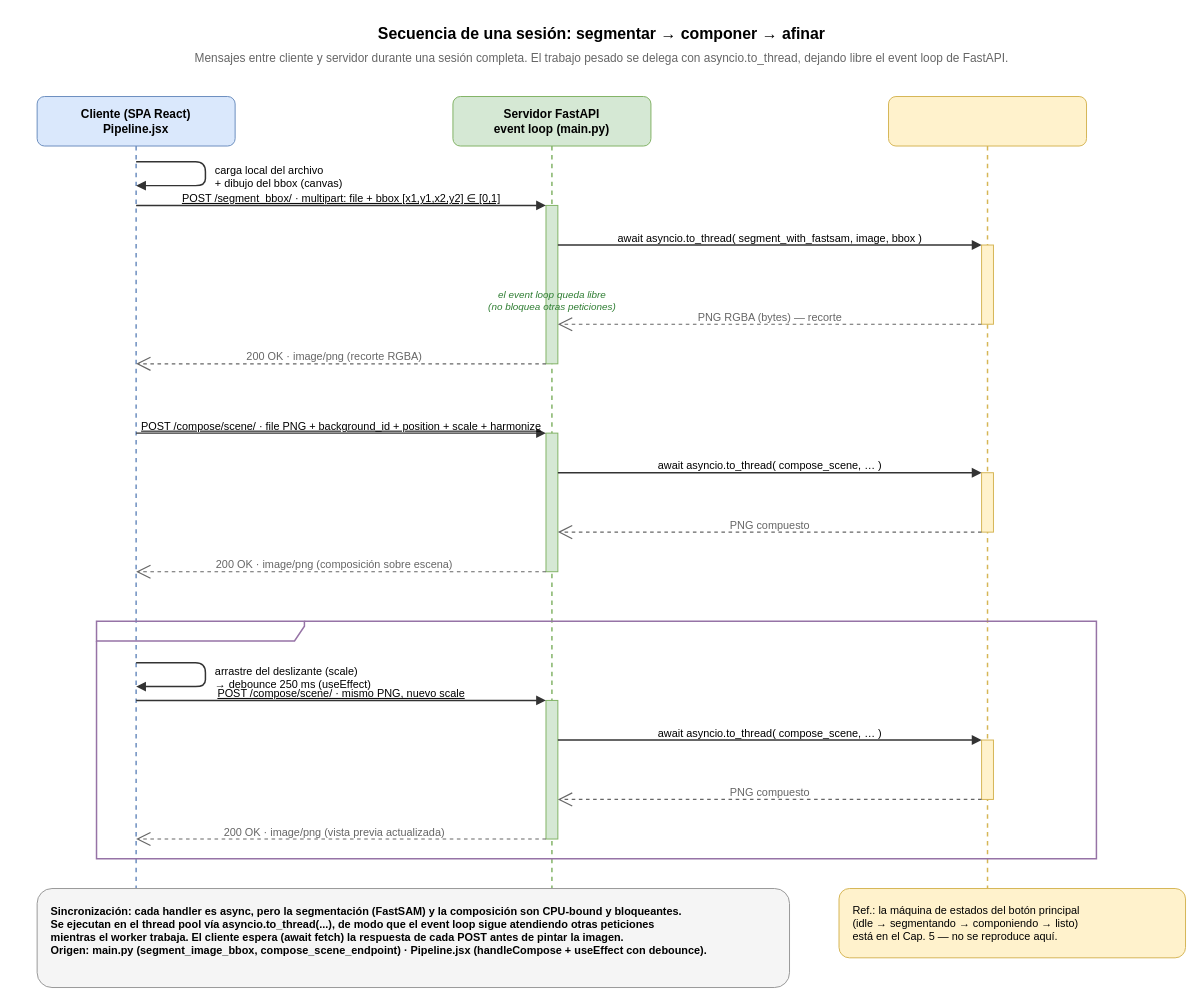
This 1203x1005 diagram has some shape labels left out. The box of each missing label's shape, as (x1, y1, x2, y2) in pixels:
loop [por cada ajuste del deslizante]: (95, 620, 1097, 859)
Worker (thread pool) asyncio.to_thread: (888, 96, 1087, 146)
